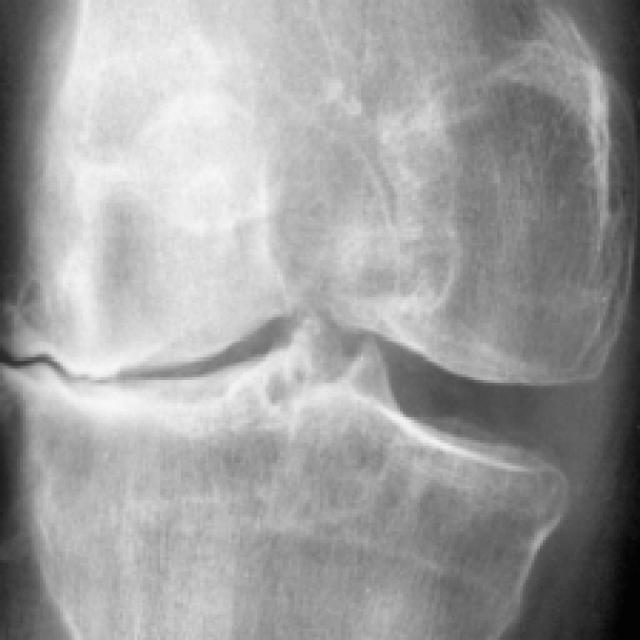femur: (1, 0, 637, 386)
tibia: (12, 317, 569, 640)
